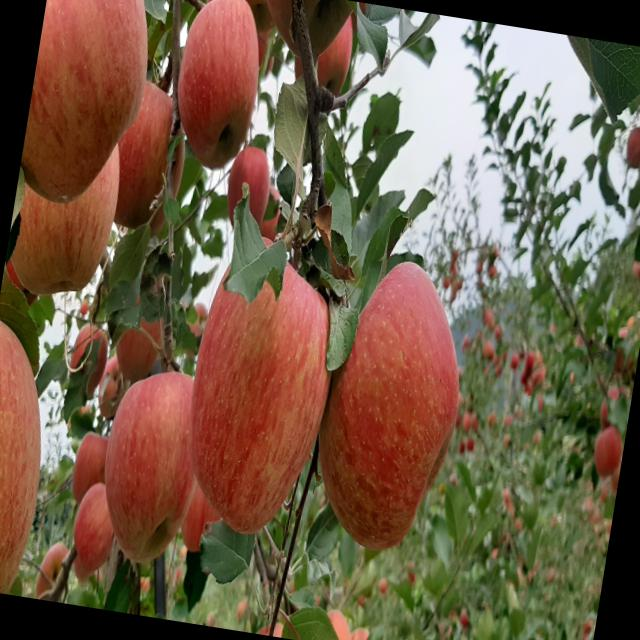fresh: (297, 232, 491, 572), (171, 219, 351, 547), (88, 354, 214, 571), (161, 1, 279, 179)
